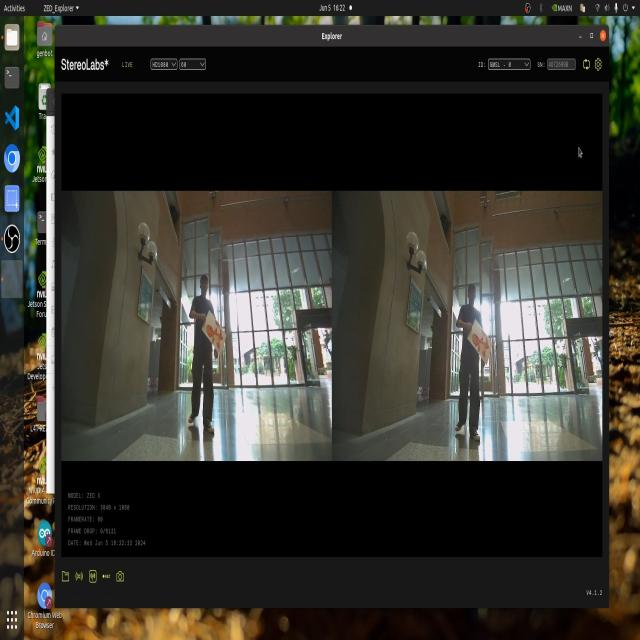red: (475, 327, 497, 366), (204, 318, 226, 349)
